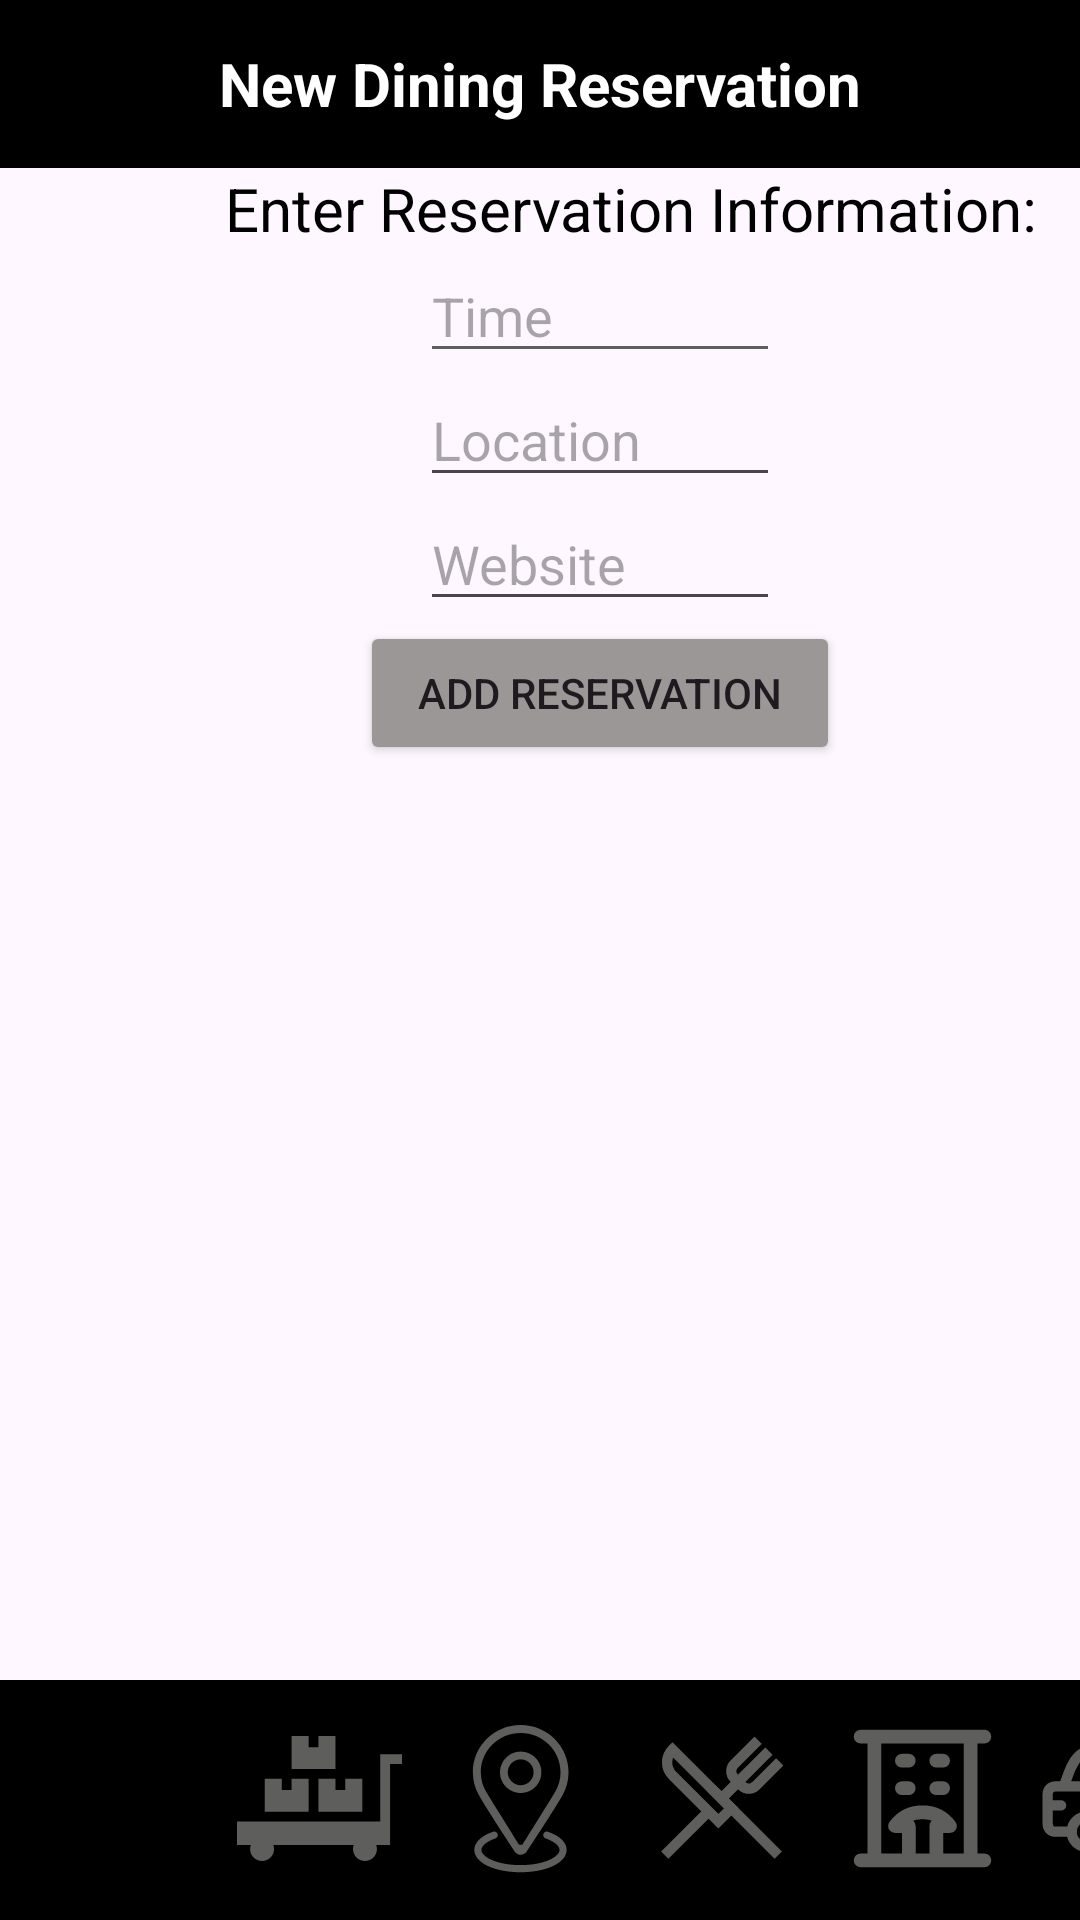

Screen size 1080px x 1920px. Icon name, then its box in pixels as bbox=(x1, y1, x2, y2):
Accommodations: bbox=(854, 1730, 991, 1867)
Destination: bbox=(473, 1725, 569, 1872)
Dining Establishments: bbox=(661, 1737, 783, 1859)
Logistics: bbox=(237, 1736, 402, 1861)
